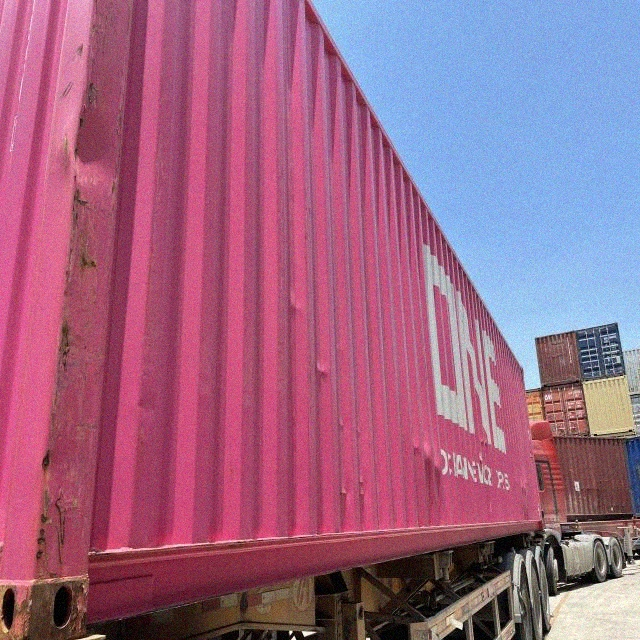Dent: (406, 425, 451, 508), (287, 279, 307, 335), (316, 344, 336, 398)
Rusty: (41, 317, 86, 598)
